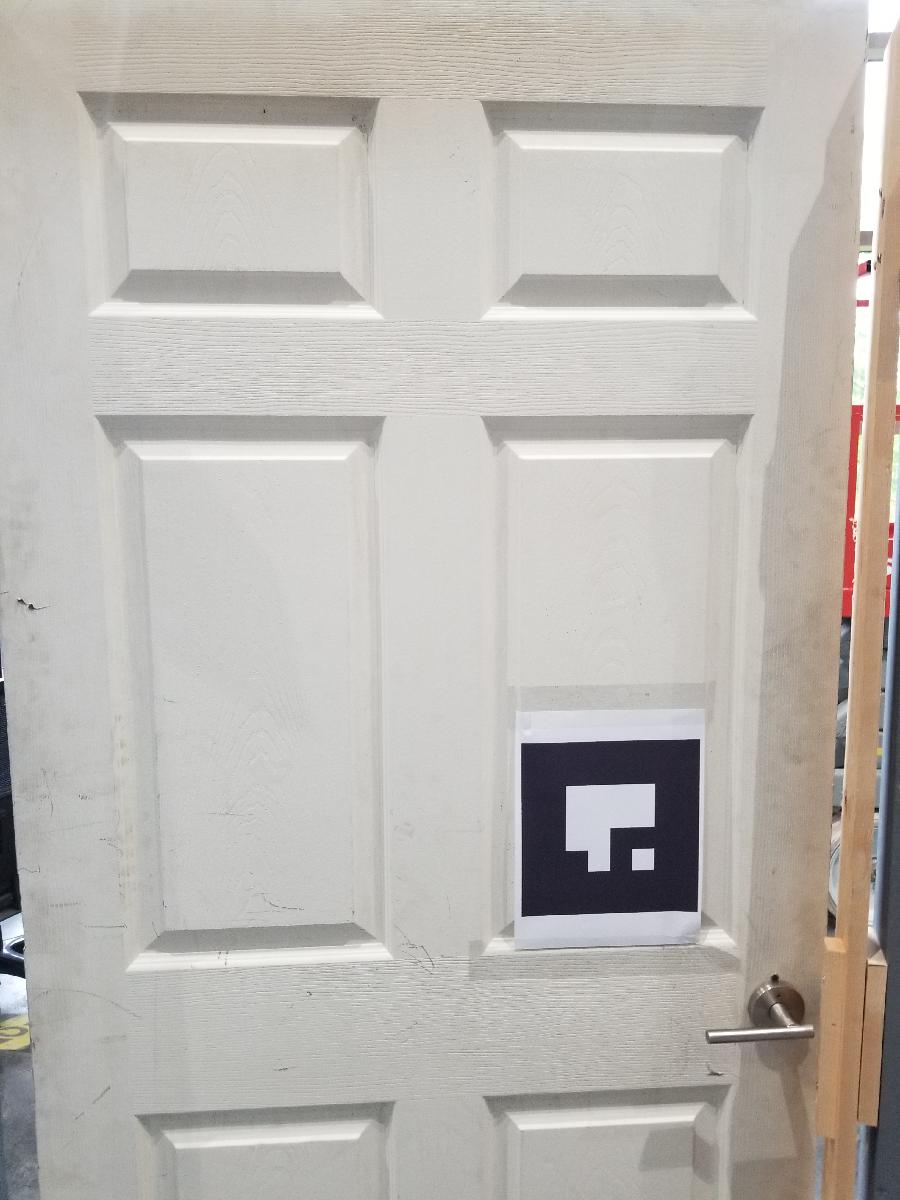doorHandle: (702, 975, 821, 1051)
